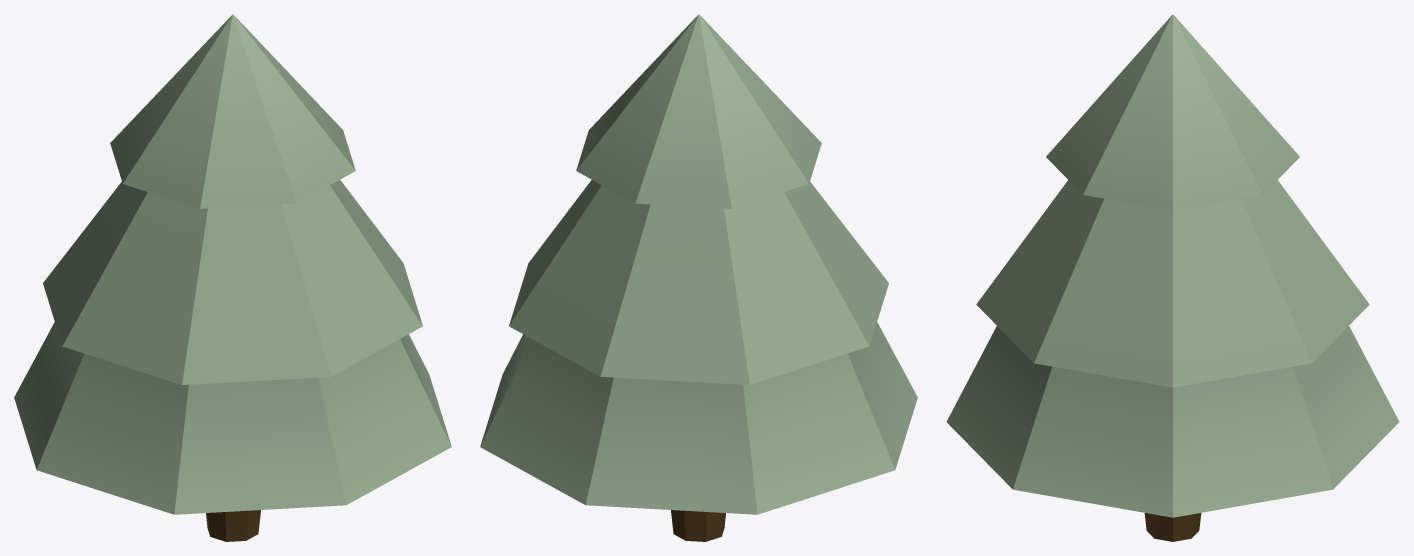
The model's file is Tree.fbx.
3 renders of one model, left to right at view 1: azimuth 30°, elevation 25°; view 2: azimuth 150°, elevation 25°; view 3: azimuth 270°, elevation 25°, orthographic.
Parts seen in each view (by area): view 1: leaves, steam; view 2: leaves, steam; view 3: leaves, steam.
Part boxes in pixels (x1,y1,x2,y2): leaves: (14,14,451,514); steam: (206,510,260,541); leaves: (480,14,917,514); steam: (671,510,725,541); leaves: (946,14,1399,517); steam: (1144,513,1201,541).
Bounding box in the file's own units: 1.38 × 1.74 × 1.38.
